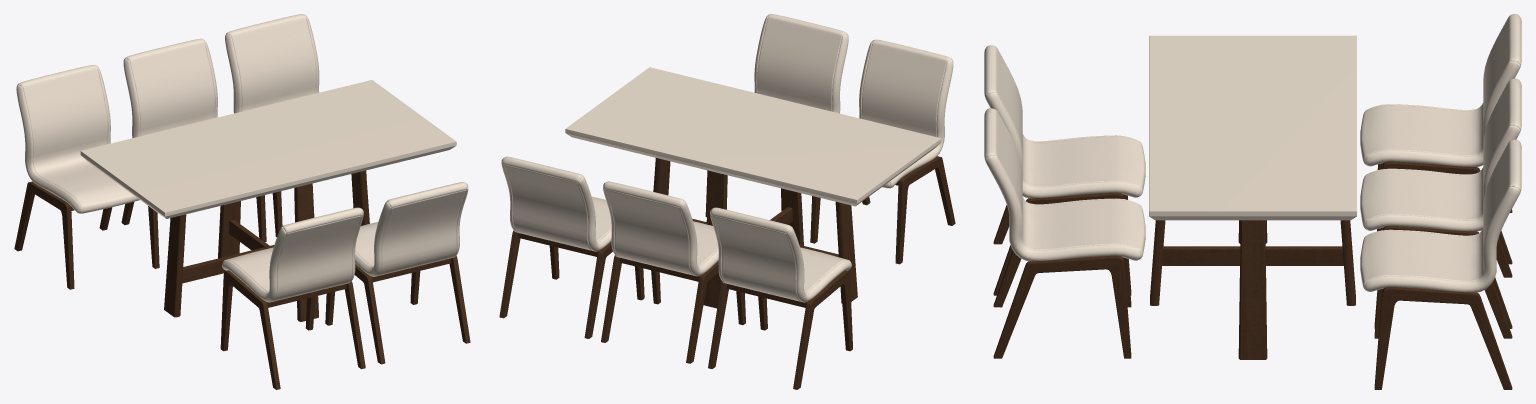
File: MEGA_PACK_Tableset__tableset_489772_Frame_Brownivory.glb
3 views of the same model, side by side, from view 1: azimuth 30°, elevation 25°; view 2: azimuth 150°, elevation 25°; view 3: azimuth 270°, elevation 25° (orthographic). The views are drawn at different scales.
Visible parts, largest first — view 1: tableset_489772_Frame_Brownivory; view 2: tableset_489772_Frame_Brownivory; view 3: tableset_489772_Frame_Brownivory.
Part boxes in pixels (x1=…): tableset_489772_Frame_Brownivory: x1=14, y1=14, x2=470, y2=389; tableset_489772_Frame_Brownivory: x1=499, y1=14, x2=955, y2=389; tableset_489772_Frame_Brownivory: x1=984, y1=14, x2=1521, y2=389.
Bounding box in the file's own units: 1.63 × 0.8563 × 2.07.
1 material, 1 textured.
